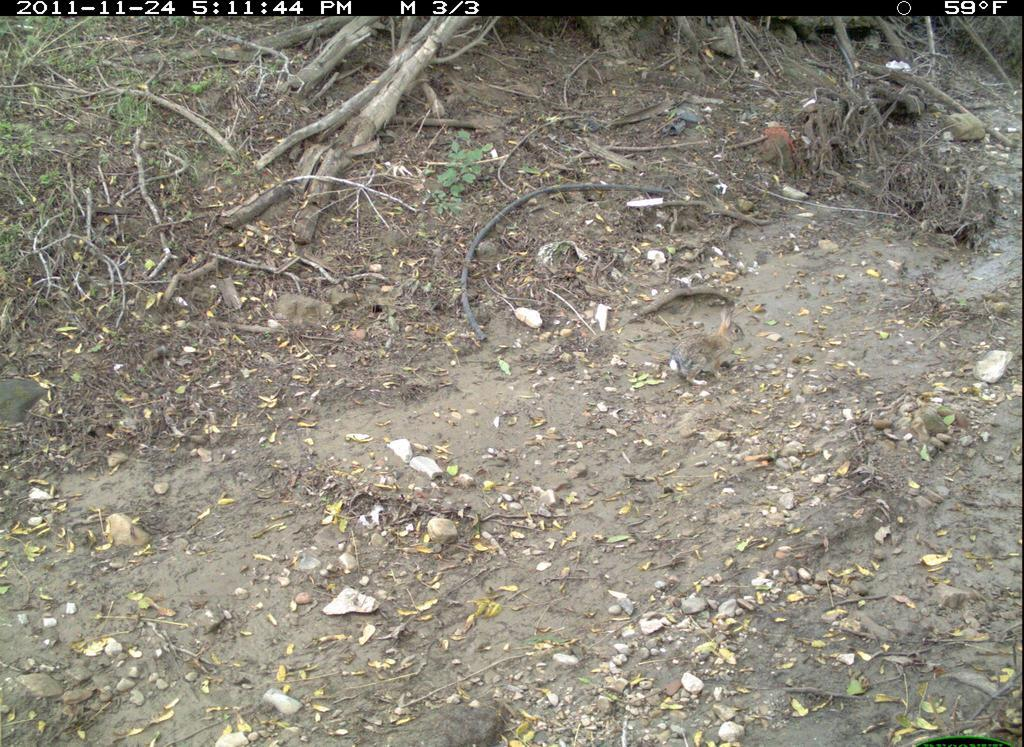rabbit: (667, 292, 762, 393)
